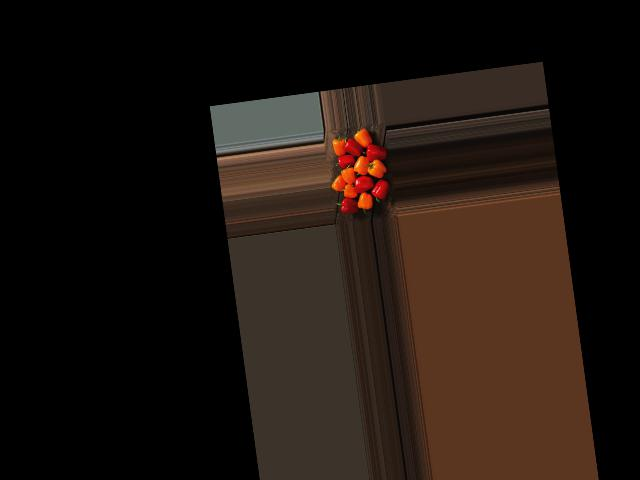bell_pepper: (353, 126, 377, 154)
